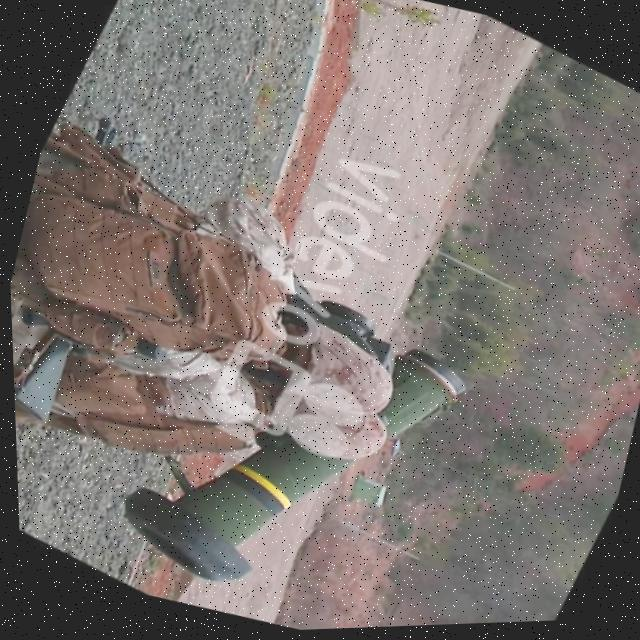rocket: (83, 244, 483, 638)
